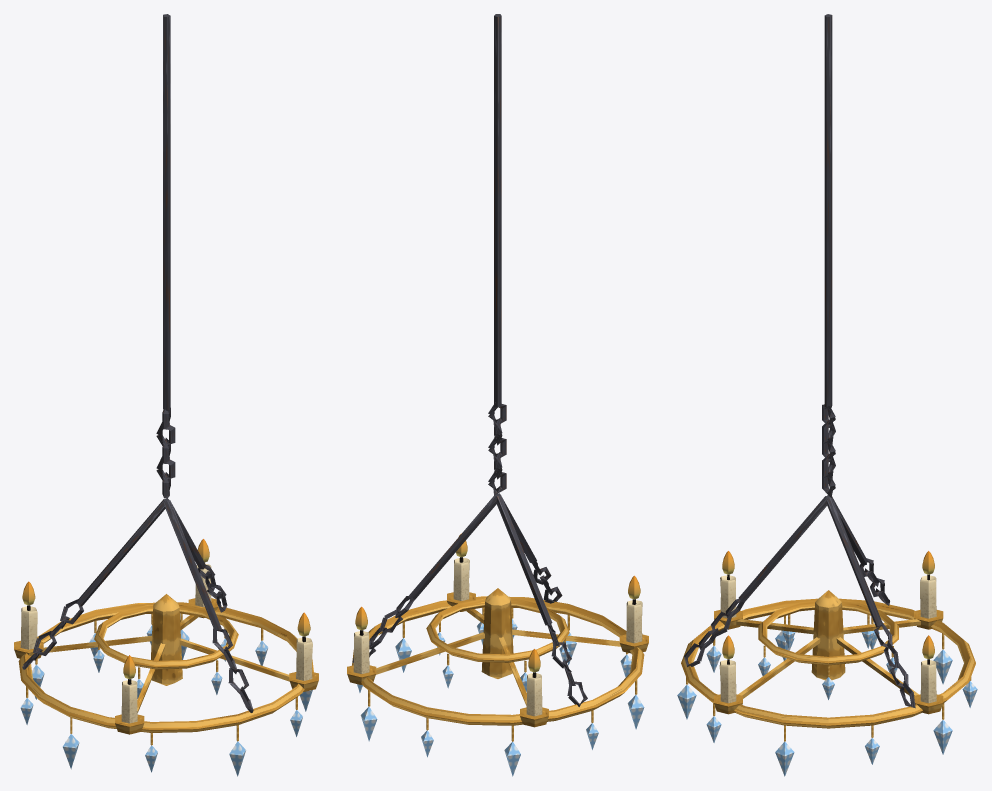
File: Lamp_Crystal.fbx
3 renders of one model, left to right at view 1: azimuth 30°, elevation 25°; view 2: azimuth 150°, elevation 25°; view 3: azimuth 270°, elevation 25°, orthographic.
Parts seen in each view (by area): view 1: Lamp_Crystal; view 2: Lamp_Crystal; view 3: Lamp_Crystal.
Boxes of the visible parts, bbox=[...] form: Lamp_Crystal: bbox=[14, 14, 318, 776]; Lamp_Crystal: bbox=[347, 14, 648, 776]; Lamp_Crystal: bbox=[677, 14, 977, 776].
Bounding box in the file's own units: 0.876 × 2.31 × 0.8912.
Materials: 2 (2 with a texture image).
